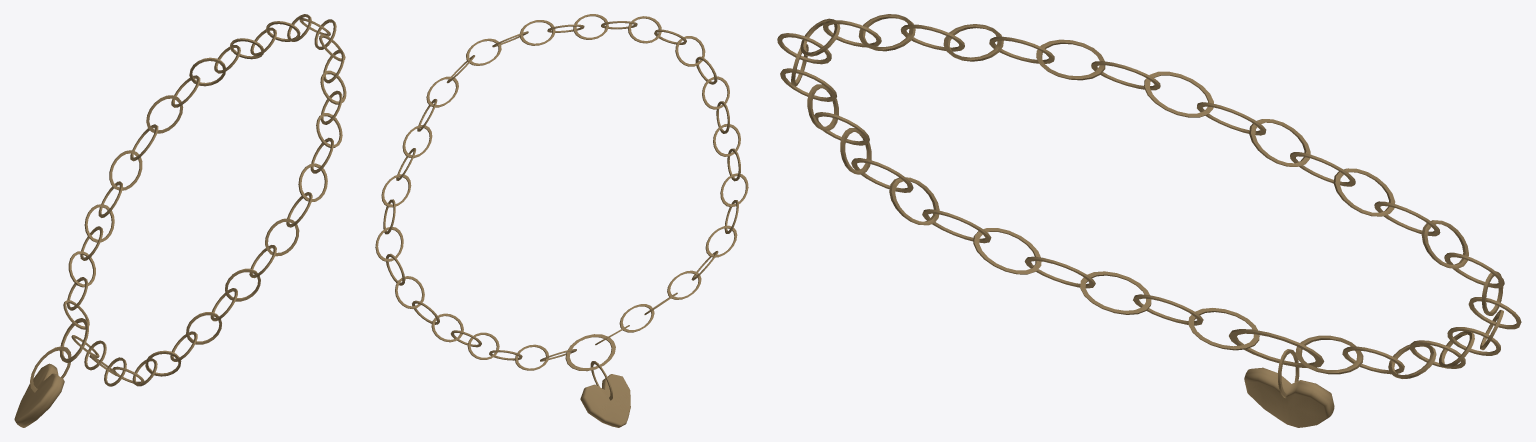
Rendered from سنسال.glb.
3 views of the same model, side by side, from view 1: azimuth 30°, elevation 25°; view 2: azimuth 150°, elevation 25°; view 3: azimuth 270°, elevation 25° (orthographic). The views are drawn at different scales.
Parts seen in each view (by area): view 1: Charm Bracelet; view 2: Charm Bracelet; view 3: Charm Bracelet.
Boxes of the visible parts, x1,y1,x2,y2 form: Charm Bracelet: [14, 14, 346, 427]; Charm Bracelet: [375, 14, 748, 427]; Charm Bracelet: [777, 14, 1521, 427].
Size of the model in its own units: 1449 by 1959 by 2499.
Materials: 1 (1 with a texture image).
